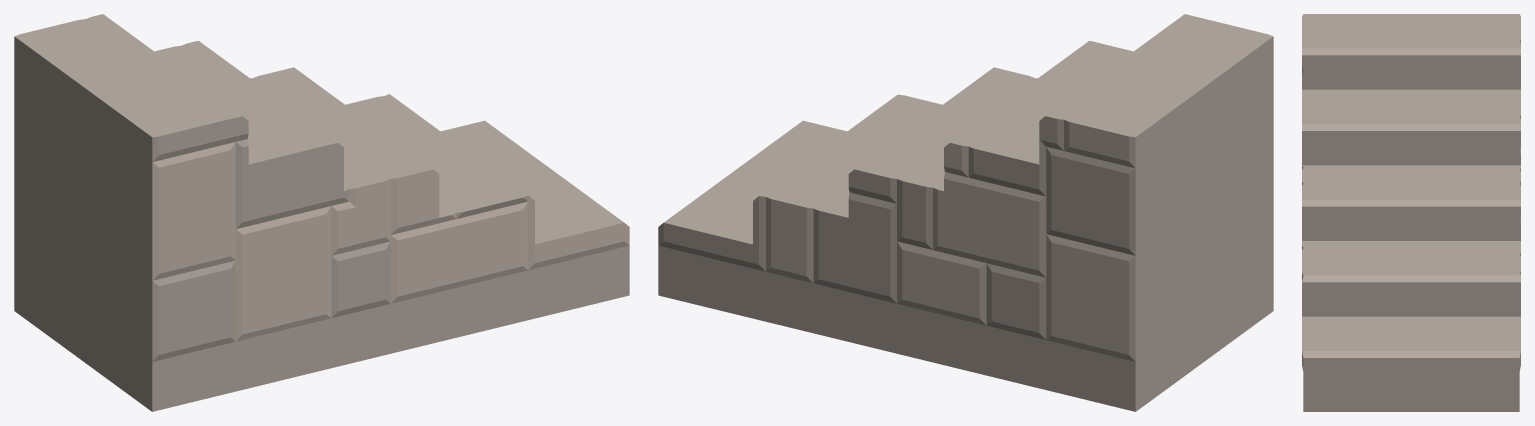
The model's file is escalerasPiedra1.glb.
The picture shows the model from 3 angles, left to right: view 1: azimuth 30°, elevation 25°; view 2: azimuth 150°, elevation 25°; view 3: azimuth 270°, elevation 25°; orthographic projection. The views are drawn at different scales.
Parts seen in each view (by area): view 1: object1; view 2: object1; view 3: object1.
Boxes of the visible parts, bbox=[...] form: object1: bbox=[14, 14, 629, 411]; object1: bbox=[658, 14, 1273, 411]; object1: bbox=[1302, 14, 1520, 411].
Bounding box in the file's own units: 2 × 1.1 × 1.01.
